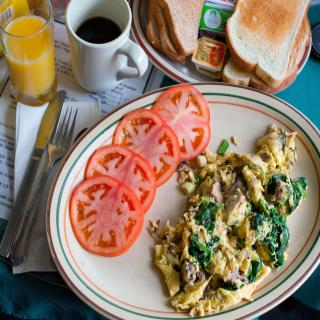tomato: (70, 173, 143, 255), (112, 108, 180, 186), (84, 143, 154, 214), (149, 85, 210, 160)
